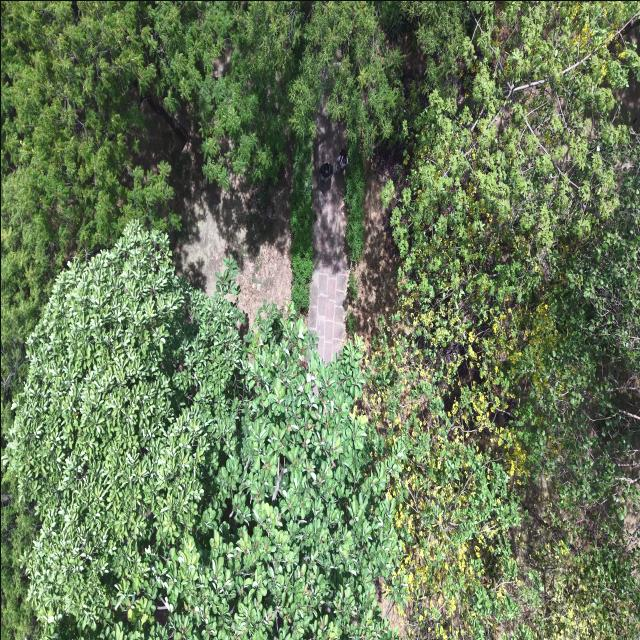DRY_AREA: (133, 97, 291, 324), (134, 97, 291, 325), (139, 97, 291, 325), (139, 98, 291, 323), (141, 101, 291, 324), (308, 108, 402, 360), (308, 107, 401, 360), (173, 173, 291, 326), (175, 176, 291, 325), (348, 142, 403, 344), (308, 107, 349, 361), (349, 147, 399, 345), (349, 167, 398, 341), (308, 266, 348, 360), (376, 581, 408, 637), (613, 74, 639, 130), (623, 501, 639, 549), (624, 499, 639, 548)
PATHWAYS: (308, 109, 348, 360)
VEGETATION_TREE: (1, 1, 639, 639), (1, 2, 405, 637), (365, 2, 639, 639), (5, 222, 399, 639), (1, 1, 464, 340), (150, 1, 463, 308), (7, 224, 242, 624), (1, 2, 178, 447), (1, 1, 178, 342), (148, 2, 319, 308), (289, 1, 468, 261), (145, 1, 303, 187), (1, 465, 40, 639), (1, 473, 41, 639), (290, 133, 314, 309), (344, 147, 366, 261)
